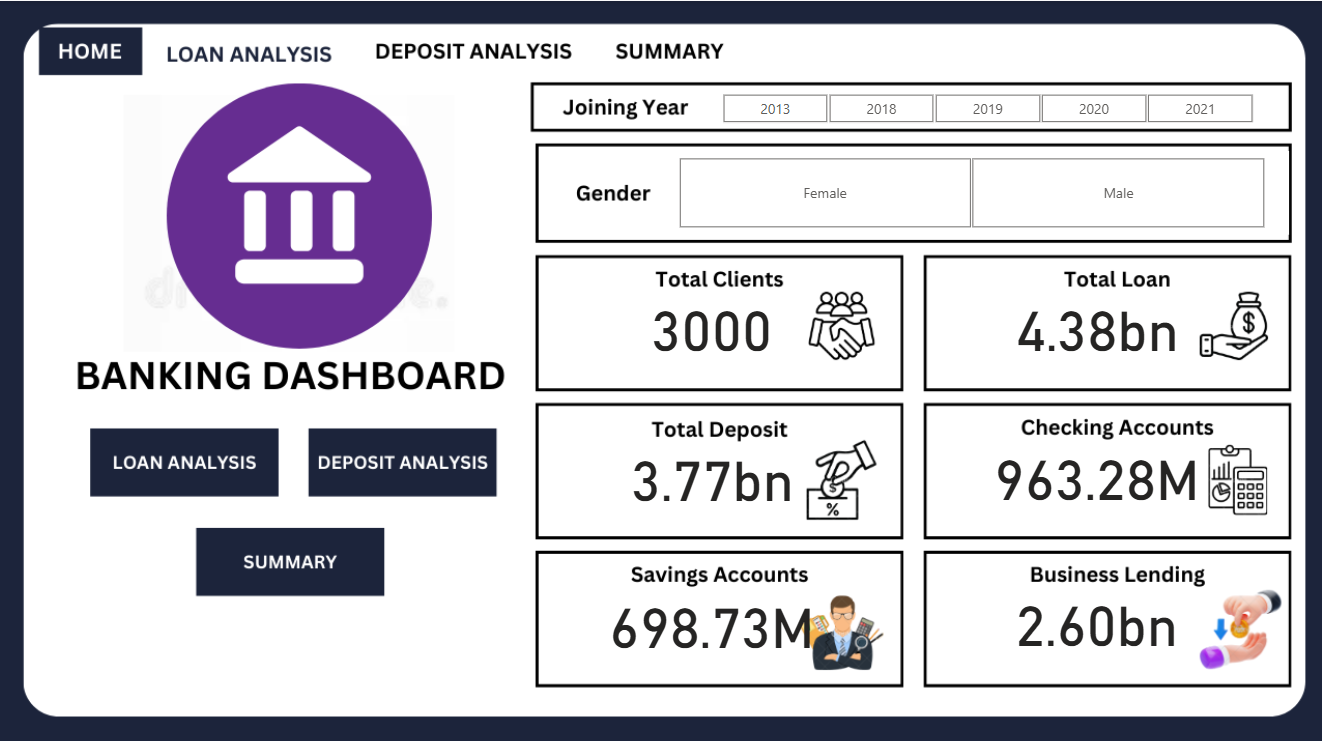

The dashboard page shown, as its layout file describes it:
{"tool":"powerbi","page":{"name":"Home","canvas":[1280,720],"ordinal":0},"visuals":[{"type":"card","fields":{"Values":["CountNonNull(banking_case customer.Name)"]},"box":[580.5,275.2,213.6,74.7],"z":0},{"type":"slicer","fields":{"Values":["banking_case customer.GenderId"]},"box":[629.8,145.2,614.3,81],"z":1000},{"type":"card","fields":{"Values":["banking_case customer.Total Loan"]},"box":[951.4,275.2,214.9,74.7],"z":2000},{"type":"card","fields":{"Values":["banking_case customer.Total Deposit"]},"box":[581.8,419.3,212.3,74.7],"z":3000},{"type":"slicer","fields":{"Values":["banking_case customer.Year of Joining"]},"box":[671.4,83.3,560.7,34.5],"z":4000},{"type":"card","fields":{"Values":["Sum(banking_case customer.Saving Accounts)"]},"box":[580.5,560.9,213.6,74.7],"z":5000},{"type":"card","fields":{"Values":["Sum(banking_case customer.Business Lending)"]},"box":[951.4,559.5,213.6,74.7],"z":6000},{"type":"card","fields":{"Values":["Sum(banking_case customer.Checking Accounts)"]},"box":[951.4,418,213.6,76],"z":7000},{"type":"actionButton","box":[191.5,514.3,175.7,55.4],"z":8000},{"type":"actionButton","box":[348.2,31.7,221.6,39.6],"z":9000},{"type":"actionButton","box":[297.5,419.4,185.2,57],"z":11000},{"type":"actionButton","box":[91.7,417.4,174.9,59.1],"z":11001}]}

Visuals, with their boxes in screenshot pixels (x1, y1, x2, y2), scaled from the page's 1280x720 canvas onto the 1322x741 screenshot:
card - CountNonNull(banking_case customer.Name): pyautogui.locateOnScreen(600, 283, 820, 360)
slicer - banking_case customer.GenderId: pyautogui.locateOnScreen(650, 149, 1285, 233)
card - banking_case customer.Total Loan: pyautogui.locateOnScreen(983, 283, 1205, 360)
card - banking_case customer.Total Deposit: pyautogui.locateOnScreen(601, 432, 820, 508)
slicer - banking_case customer.Year of Joining: pyautogui.locateOnScreen(693, 86, 1273, 121)
card - Sum(banking_case customer.Saving Accounts): pyautogui.locateOnScreen(600, 577, 820, 654)
card - Sum(banking_case customer.Business Lending): pyautogui.locateOnScreen(983, 576, 1203, 653)
card - Sum(banking_case customer.Checking Accounts): pyautogui.locateOnScreen(983, 430, 1203, 508)
actionButton: pyautogui.locateOnScreen(198, 529, 379, 586)
actionButton: pyautogui.locateOnScreen(360, 33, 588, 73)
actionButton: pyautogui.locateOnScreen(307, 432, 499, 490)
actionButton: pyautogui.locateOnScreen(95, 430, 275, 490)
